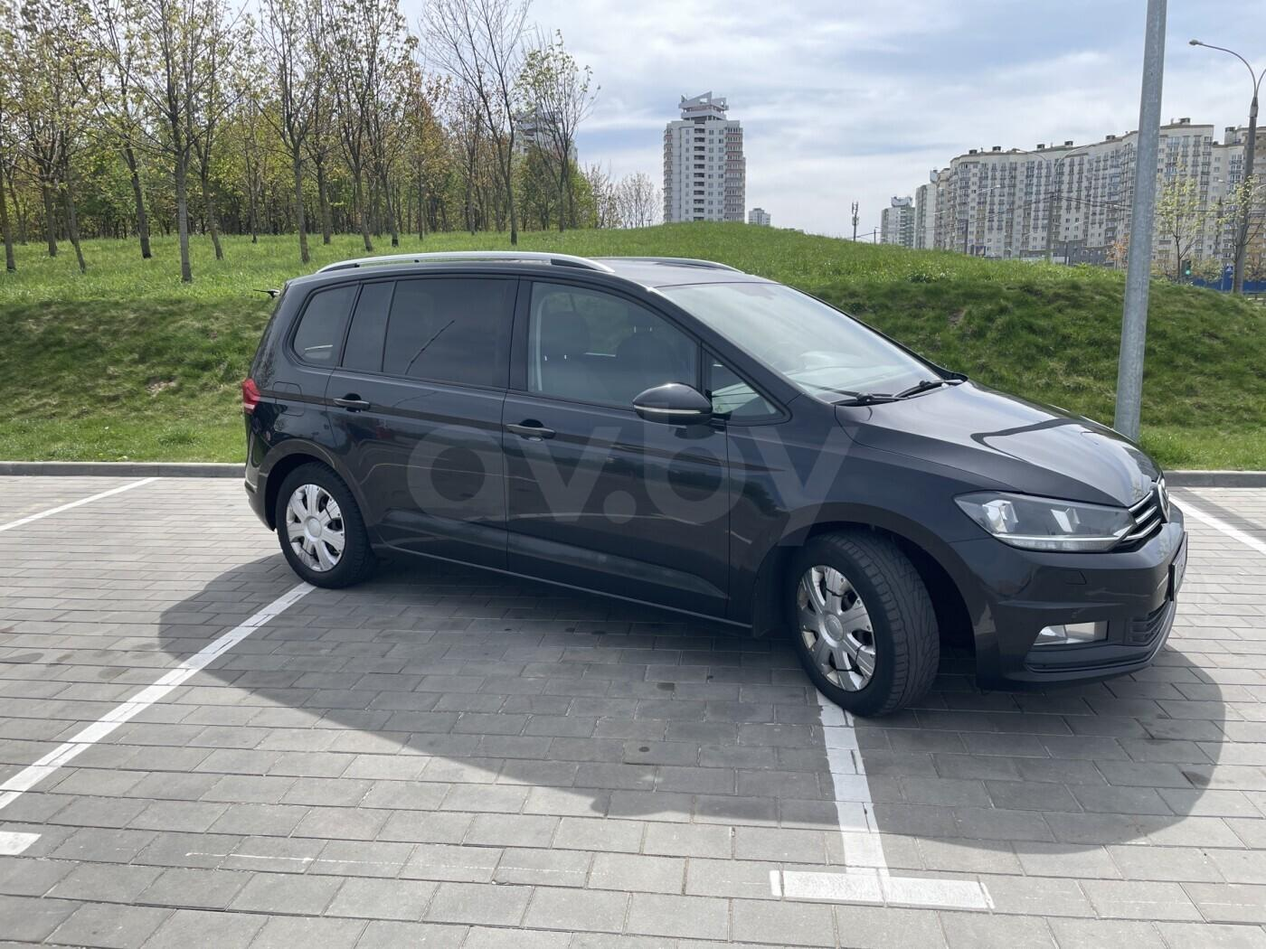Touran_2015: (234, 249, 1187, 720)
